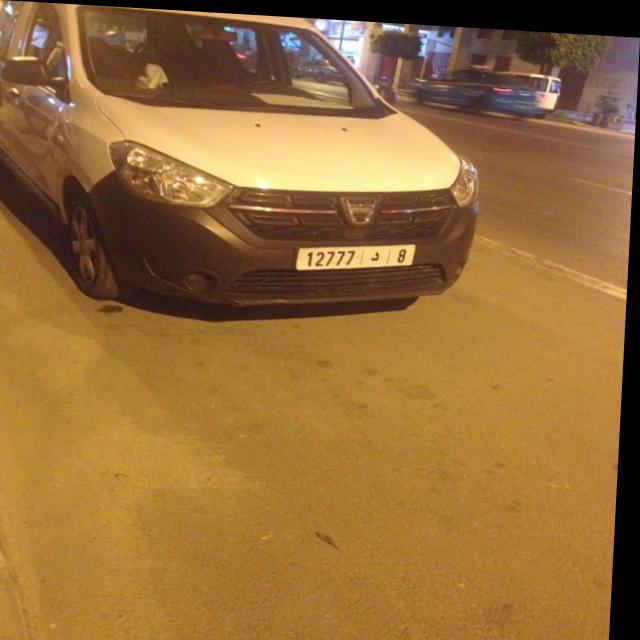License-Plate: (298, 239, 418, 266)
